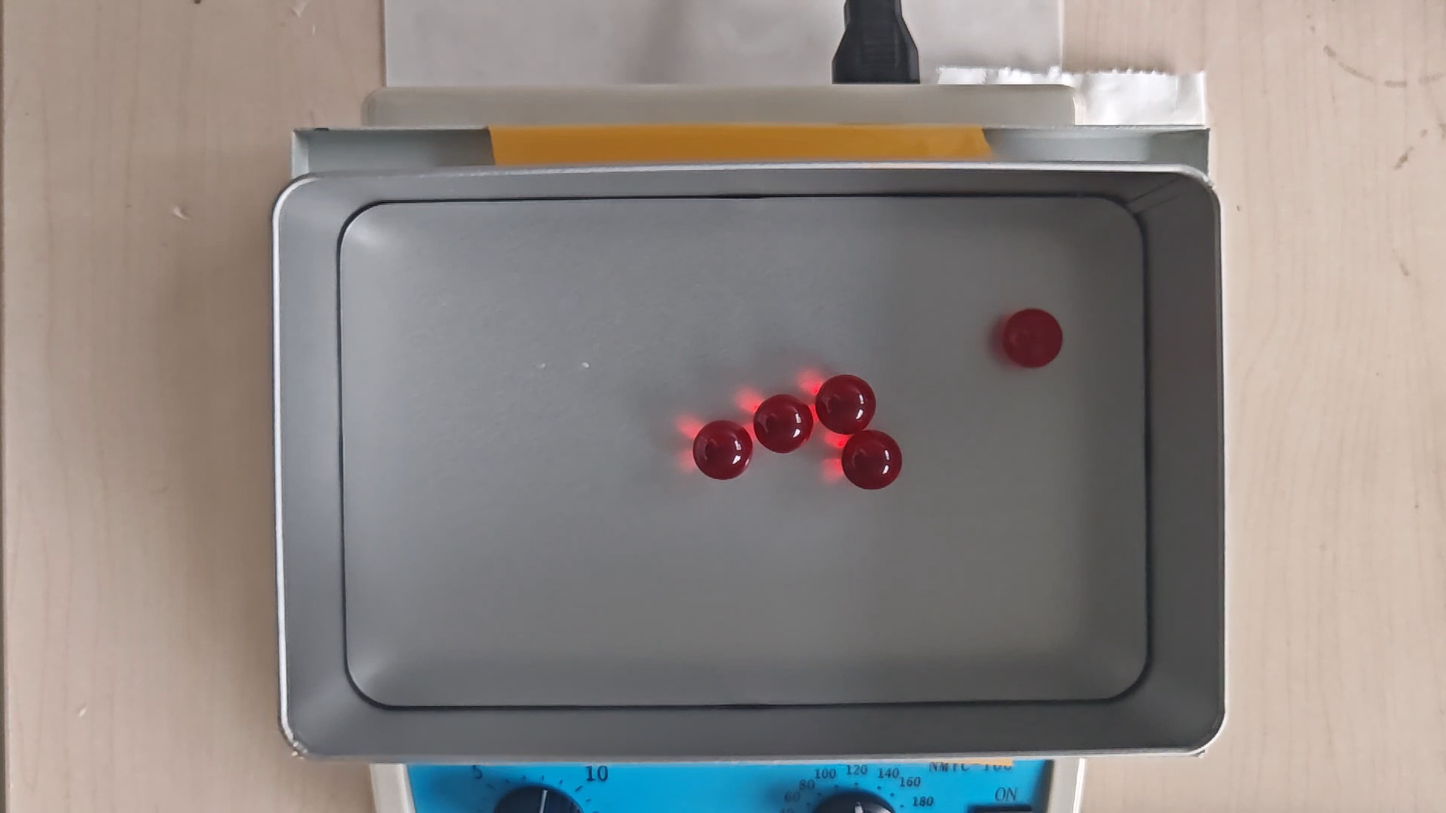ball: (1003, 306, 1063, 369), (752, 394, 813, 455), (842, 431, 903, 492), (816, 375, 876, 434), (694, 419, 751, 480)
container: (334, 196, 1146, 711)
